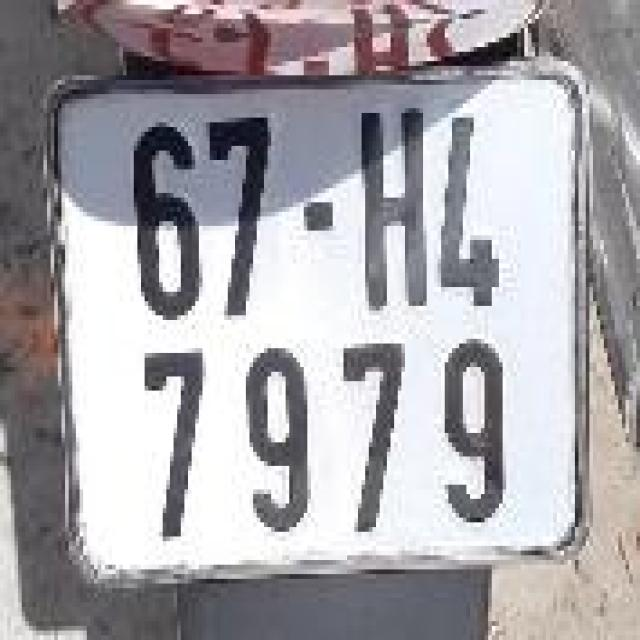4: (434, 101, 528, 308)
6: (123, 123, 202, 330)
7: (132, 332, 215, 548), (206, 104, 275, 310), (344, 327, 408, 539)
9: (230, 339, 316, 536), (438, 342, 506, 530)
H: (347, 108, 441, 316)
